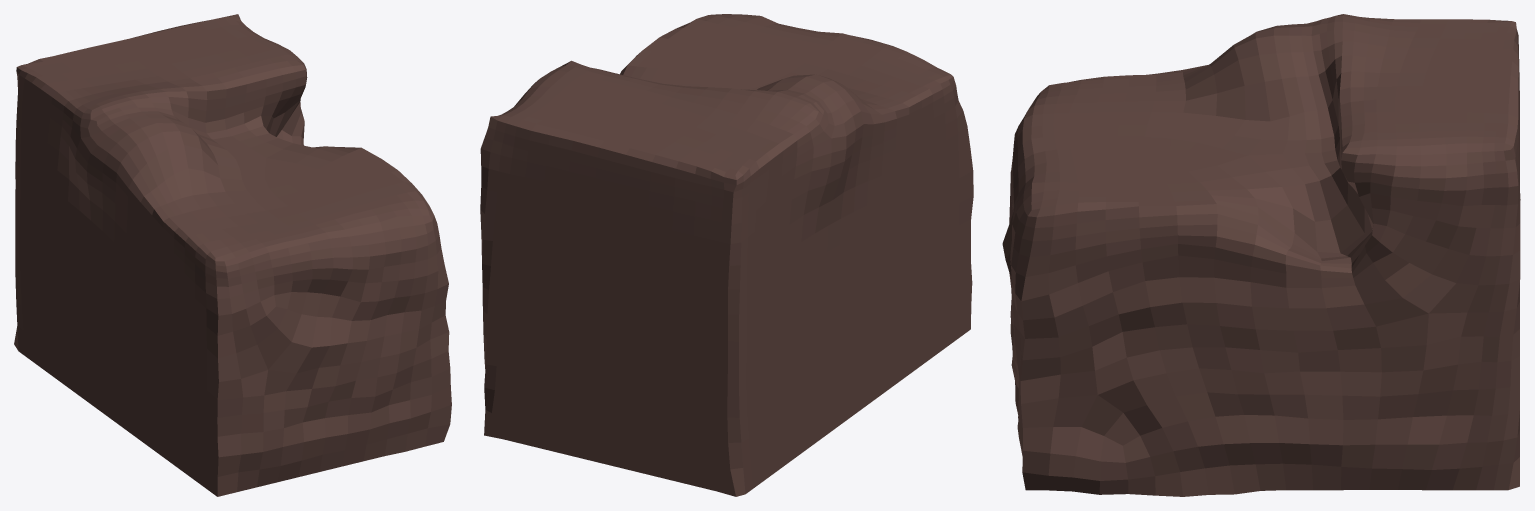
The model's file is Platform_01.fbx.
3 views of the same model, side by side, from view 1: azimuth 30°, elevation 25°; view 2: azimuth 150°, elevation 25°; view 3: azimuth 270°, elevation 25° (orthographic). The views are drawn at different scales.
Parts seen in each view (by area): view 1: Retopo_Cube; view 2: Retopo_Cube; view 3: Retopo_Cube.
Part boxes in pixels (box(x1,y1,x2,y2)): Retopo_Cube: box(14, 14, 451, 496); Retopo_Cube: box(480, 14, 973, 496); Retopo_Cube: box(1002, 14, 1520, 496).
Bounding box in the file's own units: 390 × 443 × 585.
